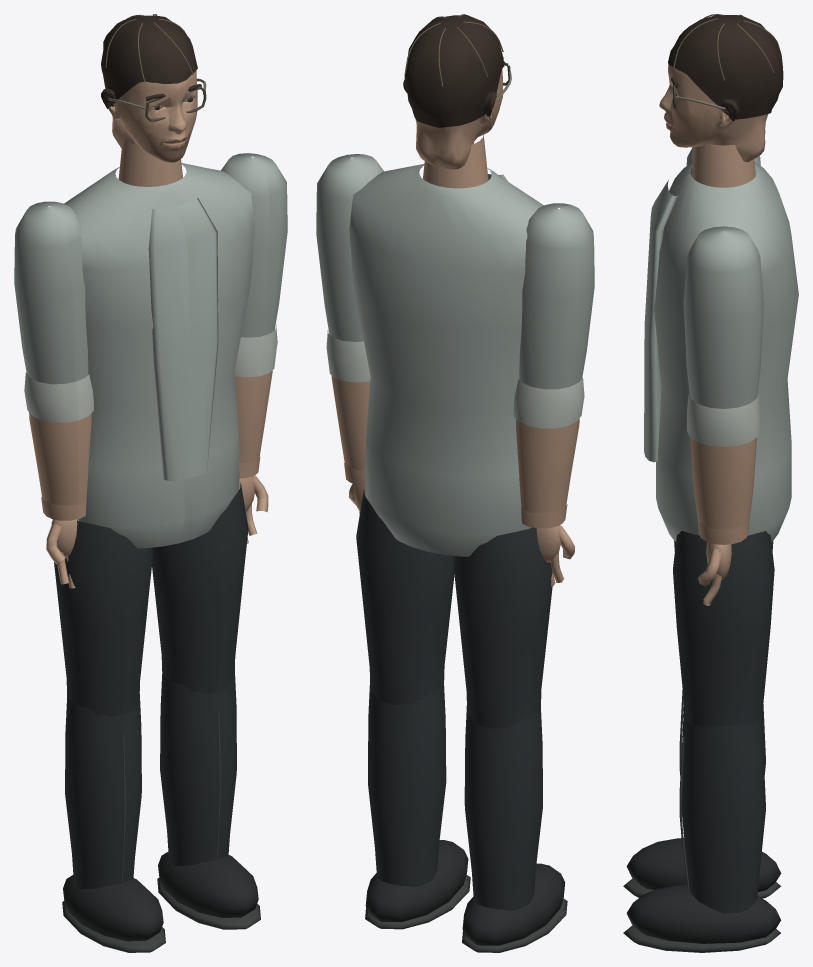
File: der-professor.glb
The picture shows the model from 3 angles, left to right: view 1: azimuth 30°, elevation 25°; view 2: azimuth 150°, elevation 25°; view 3: azimuth 270°, elevation 25°; orthographic projection.
Parts seen in each view (by area): view 1: TailoredTorso, TrouserThigh (×2), TrouserCalf (×2), TailoredSleeve (×2), ShirtFront, Shoe (×2), Head, AnatomicalFace, LeftForearm, RolledCuff (×2), RightForearm, Sole (×2) (+3 smaller); view 2: TailoredTorso, TrouserThigh (×2), TrouserCalf (×2), TailoredSleeve (×2), Head, Shoe (×2), LeftForearm, RolledCuff (×2), RightForearm, AnatomicalFace, Sole (×2), Neck (+1 smaller); view 3: TailoredTorso, TrouserThigh, TrouserCalf, TailoredSleeve, Head, Shoe (×2), RightForearm, AnatomicalFace, ShirtFront, RolledCuff, Neck, Sole (×2) (+2 smaller).
Part boxes in pixels (x1,y1,x2,y2): TailoredTorso: [64, 163, 254, 548]; TrouserThigh (×2): [54, 482, 248, 717]; TrouserCalf (×2): [65, 670, 236, 889]; TailoredSleeve (×2): [14, 153, 287, 384]; ShirtFront: [148, 198, 218, 480]; Shoe (×2): [63, 852, 258, 941]; Head: [101, 14, 206, 121]; AnatomicalFace: [108, 71, 197, 162]; LeftForearm: [29, 412, 91, 520]; RolledCuff (×2): [24, 324, 277, 422]; RightForearm: [234, 370, 272, 478]; Sole (×2): [62, 878, 260, 952]; TailoredTorso: [349, 164, 543, 556]; TrouserThigh (×2): [356, 489, 552, 728]; TrouserCalf (×2): [368, 681, 542, 911]; TailoredSleeve (×2): [316, 154, 594, 389]; Head: [403, 14, 511, 127]; Shoe (×2): [365, 840, 565, 945]; LeftForearm: [516, 418, 579, 528]; RolledCuff (×2): [326, 330, 584, 428]; RightForearm: [331, 375, 369, 485]; AnatomicalFace: [415, 70, 502, 169]; Sole (×2): [365, 875, 567, 952]; Neck: [423, 134, 488, 188]; TailoredTorso: [653, 162, 798, 541]; TrouserThigh: [673, 531, 774, 726]; TrouserCalf: [681, 718, 765, 913]; TailoredSleeve: [683, 226, 763, 408]; Head: [668, 14, 783, 121]; Shoe (×2): [626, 838, 781, 943]; RightForearm: [690, 438, 756, 544]; AnatomicalFace: [659, 64, 768, 162]; ShirtFront: [644, 180, 680, 462]; RolledCuff: [687, 393, 760, 446]; Neck: [692, 143, 755, 187]; Sole (×2): [623, 878, 780, 952].
Size of the model in its own units: 0.5433 by 1.76 by 0.311.
